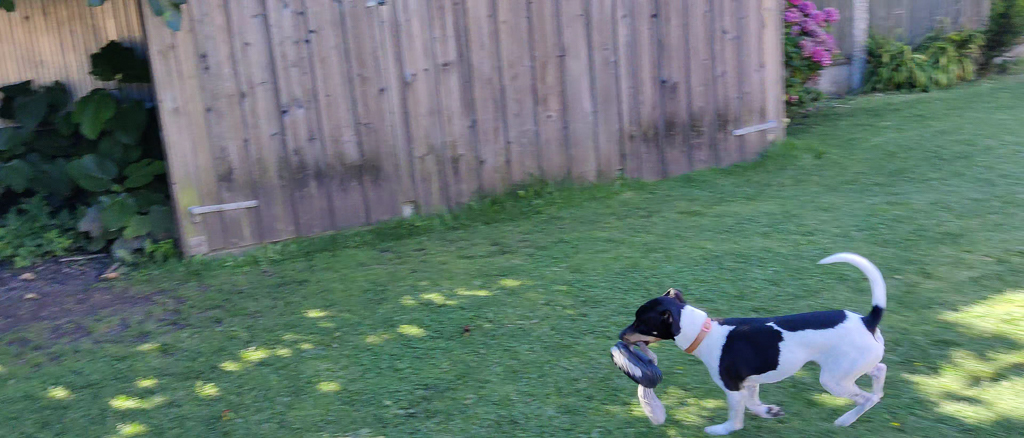Dog: (608, 238, 897, 438)
